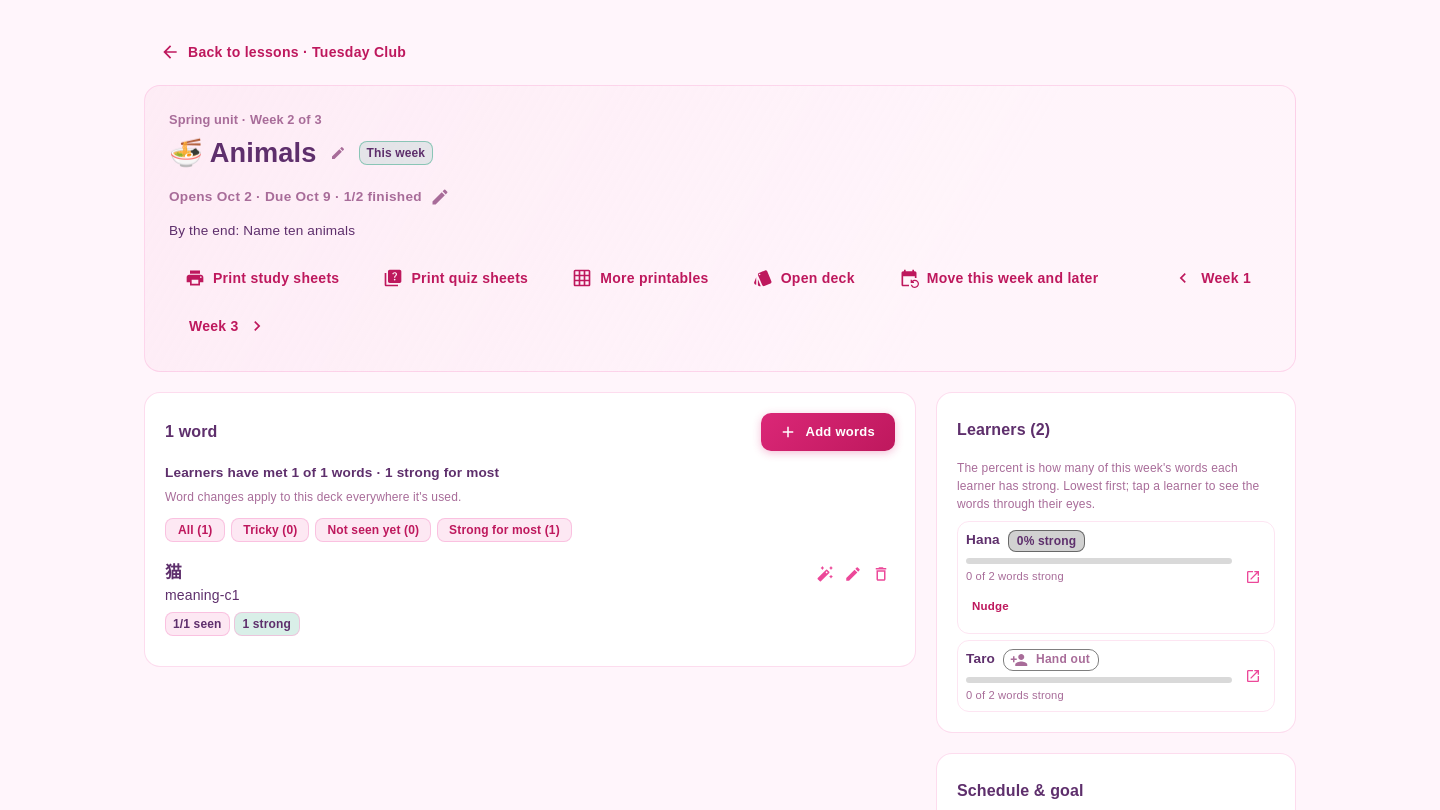
Test: HandoutPage › assigns an unassigned learner to the handout
Click the button "Hand out" at (1051, 660), box [1003,649,1099,671]
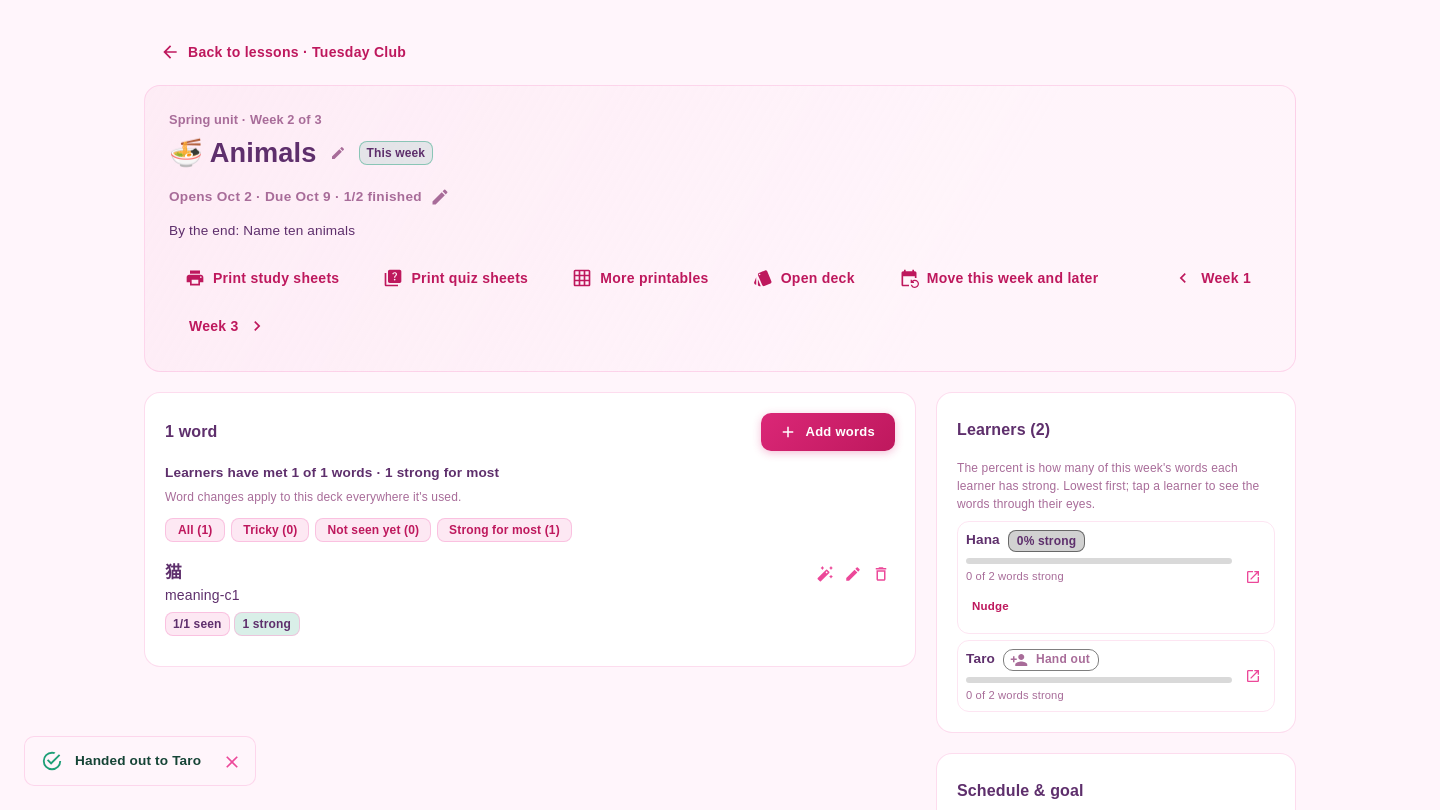
Expected: the text "Handed out to Taro" is shown, [75,753,201,768]
